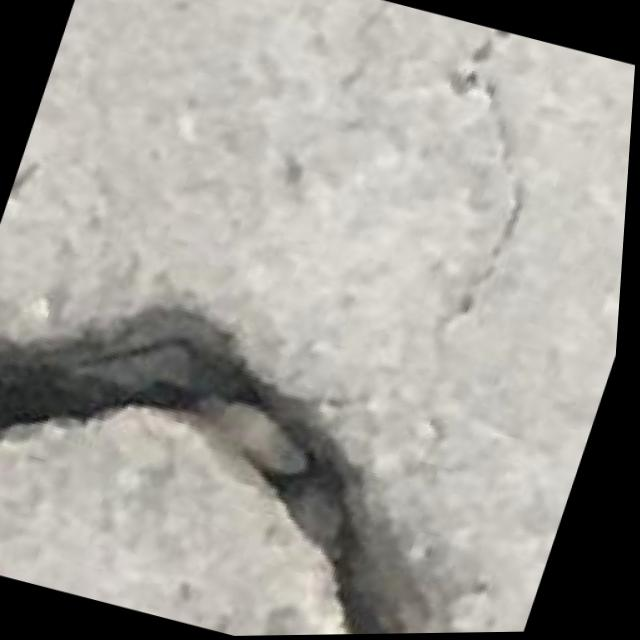Crack: (0, 234, 612, 640)
